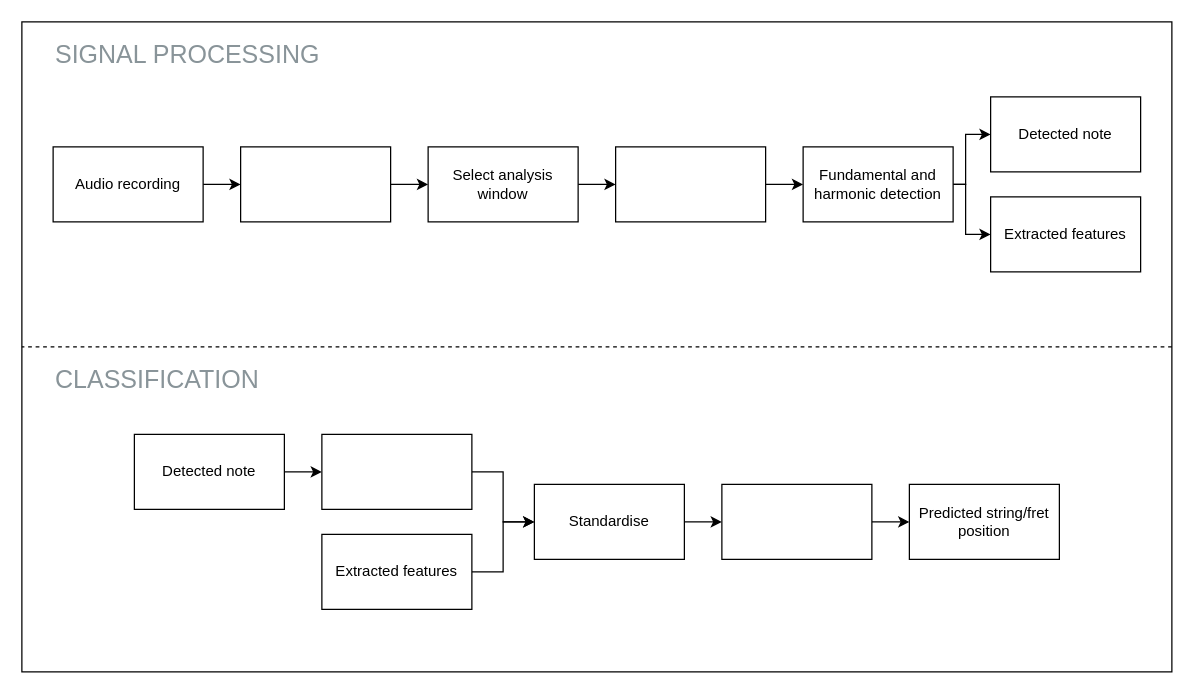
Some shapes in this 1195 by 694 pixel diagram are drawn without their labels. Each missing label, with the centre of its shape:
FFT: (x=690, y=184)
Logistic regression: (x=796, y=521)
RMS envelope: (x=315, y=184)
Select training data: (x=396, y=471)
